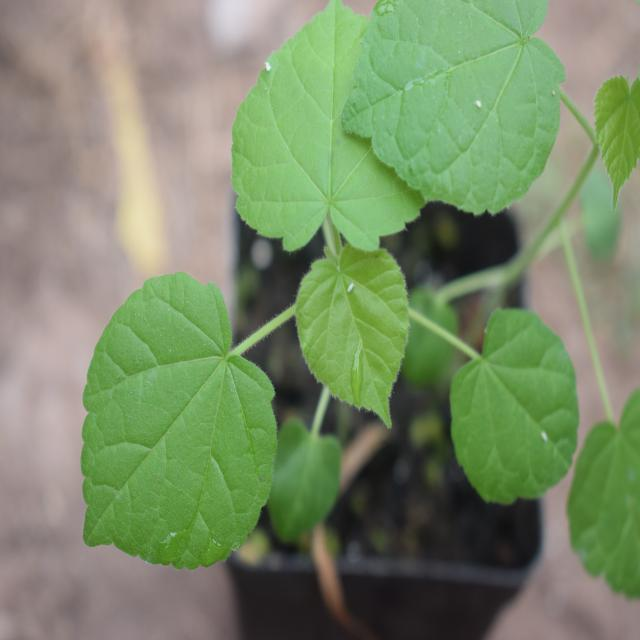abutilon theophrasti: (67, 41, 541, 564)
